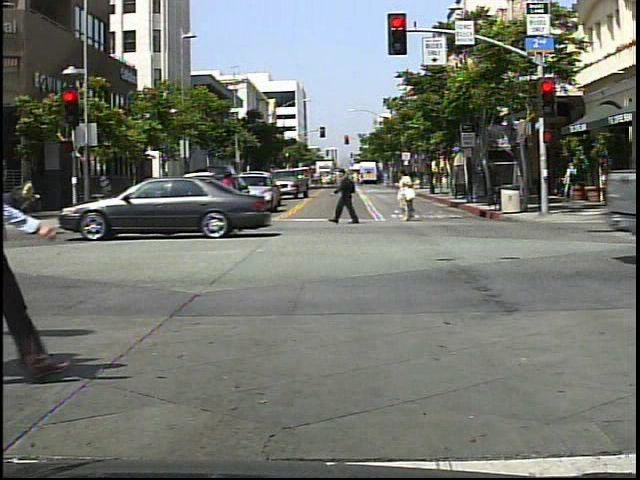person: (210, 168, 242, 227), (338, 162, 366, 229), (395, 164, 426, 224), (561, 159, 584, 209)
